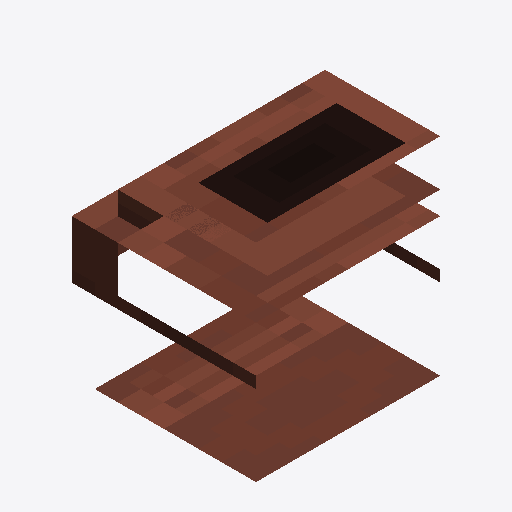
Isometric view (azimuth 45°, elevation 35.3°) of a Minecraft model made of 3 cuboids, textured from the same repository.
Parts seen in each view (by area): element 3, element 1, element 2.
Part boxes in pixels (x1,y1,x2,y2): element 3: (72, 190, 439, 481); element 1: (141, 70, 439, 295); element 2: (118, 176, 230, 241).
Size of the model in its own units: 8 by 9 by 8.